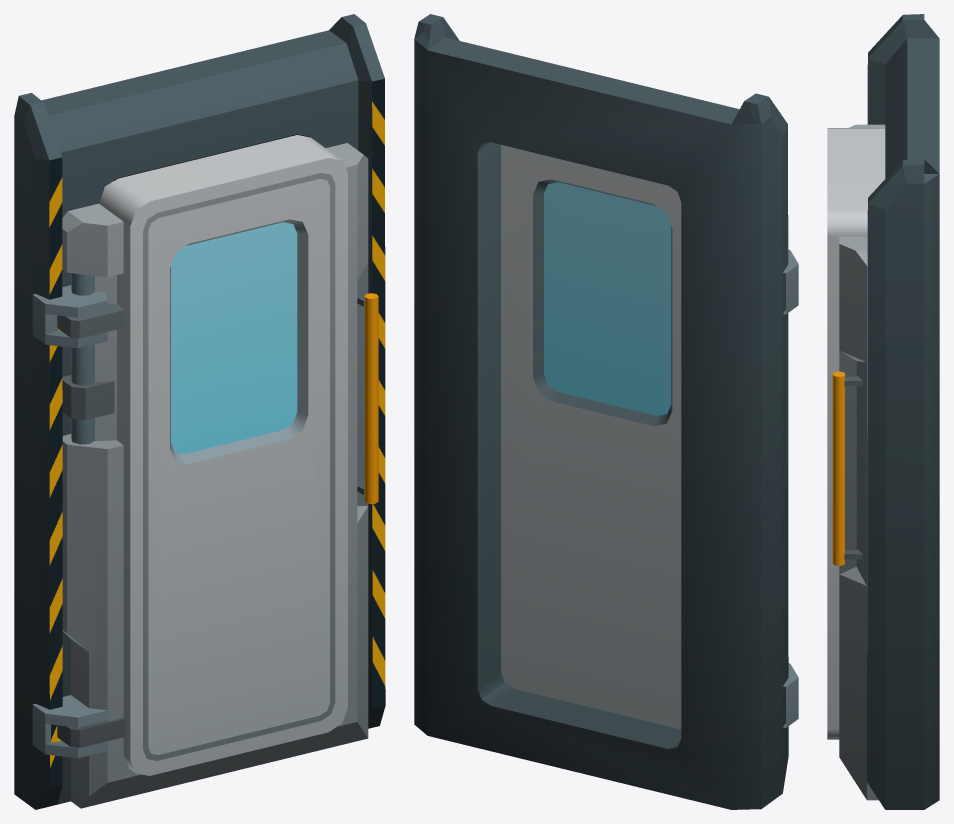
Rendered from bulkhead_portal_2x1.glb.
The picture shows the model from 3 angles, left to right: view 1: azimuth 30°, elevation 25°; view 2: azimuth 150°, elevation 25°; view 3: azimuth 270°, elevation 25°; orthographic projection. The views are drawn at different scales.
Parts seen in each view (by area): view 1: Door_panel_008, Door_004; view 2: Door_004, Door_panel_008; view 3: Door_004, Door_panel_008.
Boxes of the visible parts, box(x1,y1,x2,y2) form: Door_panel_008: box(57, 135, 378, 808); Door_004: box(14, 14, 385, 809); Door_004: box(414, 14, 798, 809); Door_panel_008: box(501, 145, 681, 729); Door_004: box(867, 14, 939, 809); Door_panel_008: box(827, 124, 885, 800).
Bounding box in the file's own units: 1.61 × 3.1 × 0.4898.
Materials: 1 (1 with a texture image).
